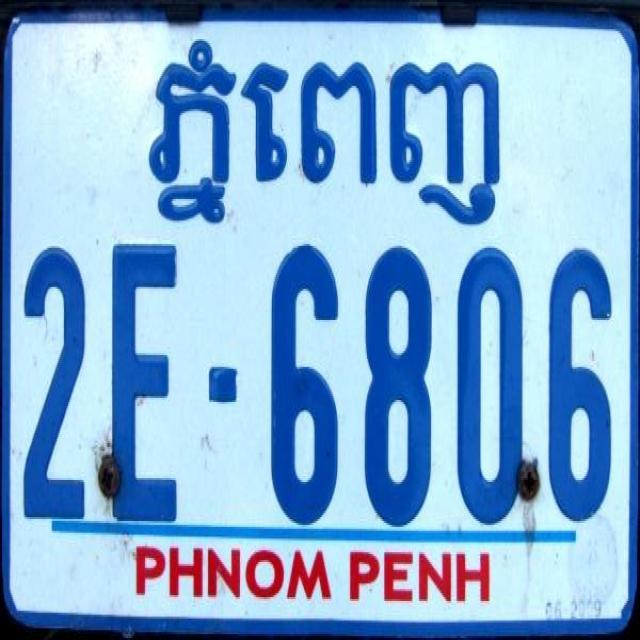Phnom_Penh: (150, 39, 500, 231)
